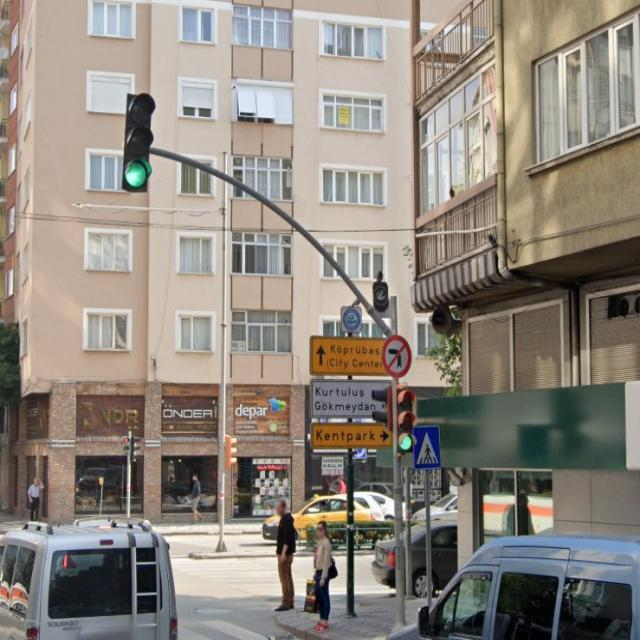soladonulmez: (382, 335, 411, 376)
yesil: (123, 93, 150, 191), (396, 387, 412, 452)
